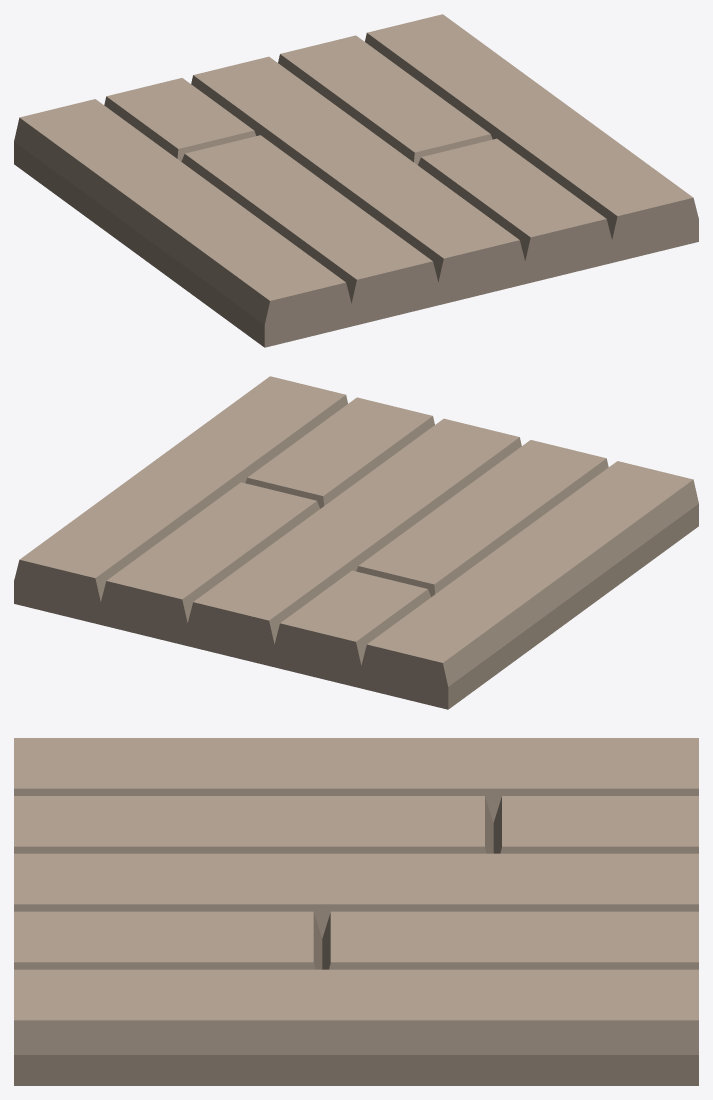
Rendered from Wood_Floor_Straight_3.glb.
3 views of the same model, one above another, from view 1: azimuth 30°, elevation 25°; view 2: azimuth 150°, elevation 25°; view 3: azimuth 270°, elevation 25° (orthographic). The views are drawn at different scales.
Parts seen in each view (by area): view 1: object1; view 2: object1; view 3: object1.
Boxes of the visible parts, x1=… form: object1: x1=14, y1=14, x2=698, y2=347; object1: x1=14, y1=376, x2=698, y2=709; object1: x1=14, y1=738, x2=698, y2=1085.
Bounding box in the file's own units: 1 × 0.1 × 1.
